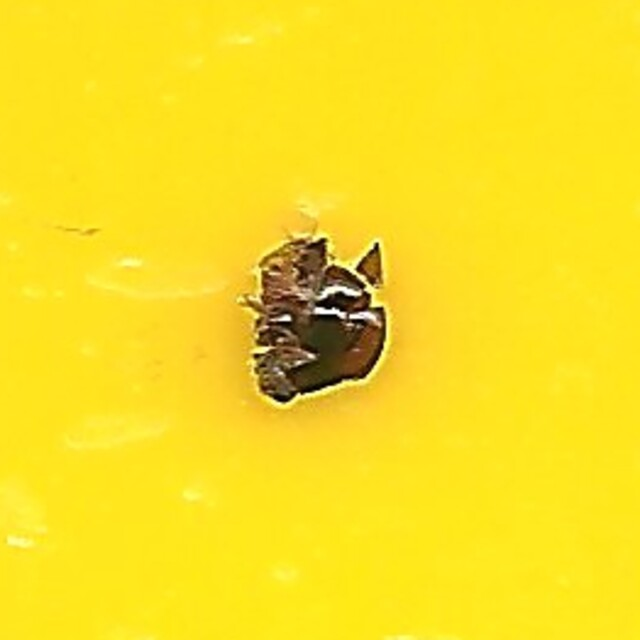Coleoptera: (244, 231, 396, 409)
